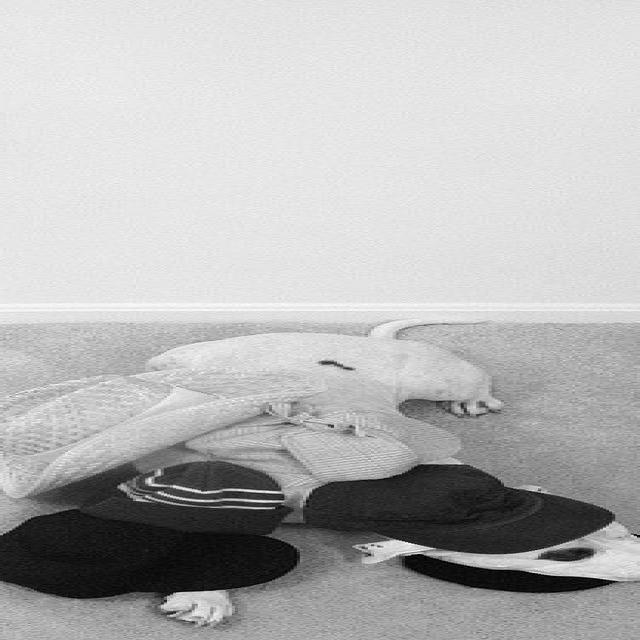dog: (139, 319, 498, 625), (287, 464, 637, 591)
